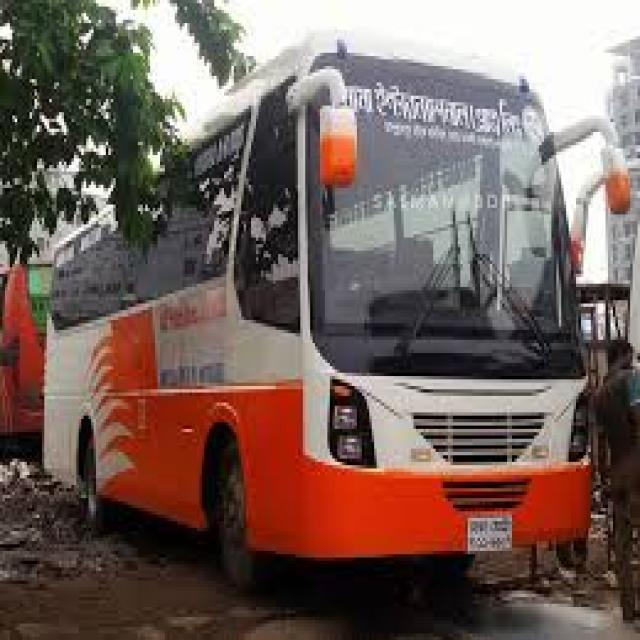bus: (43, 29, 629, 597)
